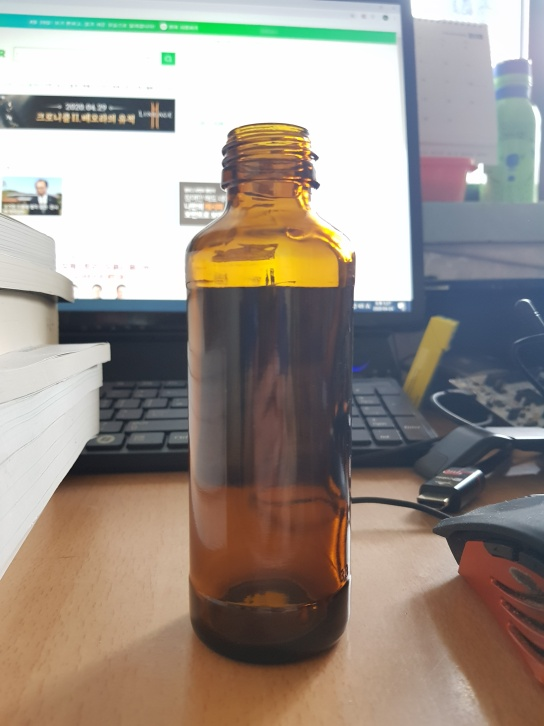Glass: (186, 124, 355, 658)
